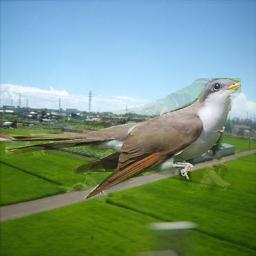Cuckoo: (5, 78, 241, 199)
